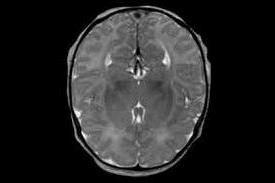Normal_Brain: (43, 1, 258, 183)
